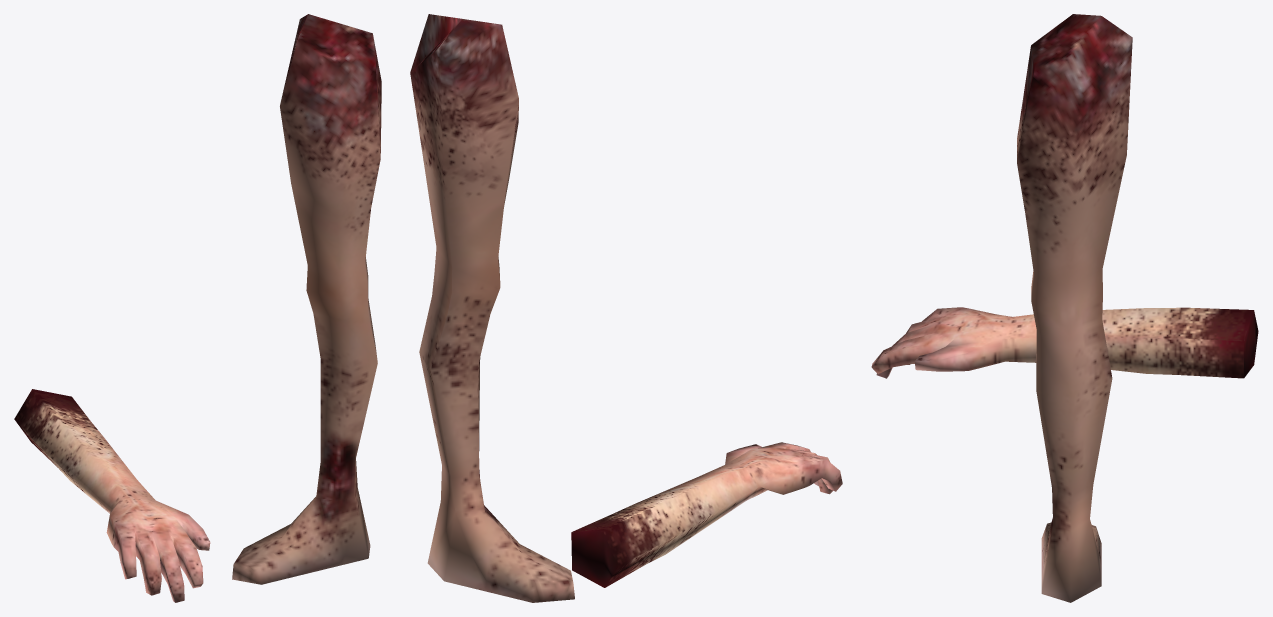
File: LIMBS.fbx
The picture shows the model from 3 angles, left to right: view 1: azimuth 30°, elevation 25°; view 2: azimuth 150°, elevation 25°; view 3: azimuth 270°, elevation 25°; orthographic projection. The views are drawn at different scales.
Visible parts, largest first — view 1: Body_part_02, Body_part_03; view 2: Body_part_02, Body_part_03; view 3: Body_part_02, Body_part_03.
Part boxes in pixels (left/top/right/bottom): Body_part_02: left=232, top=14, right=381, bottom=584; Body_part_03: left=14, top=389, right=210, bottom=602; Body_part_02: left=410, top=14, right=574, bottom=602; Body_part_03: left=571, top=442, right=842, bottom=587; Body_part_02: left=1017, top=14, right=1132, bottom=602; Body_part_03: left=871, top=307, right=1258, bottom=378.
Bounding box in the file's own units: 64.58 × 99.59 × 62.09.
Materials: 1 (1 with a texture image).
